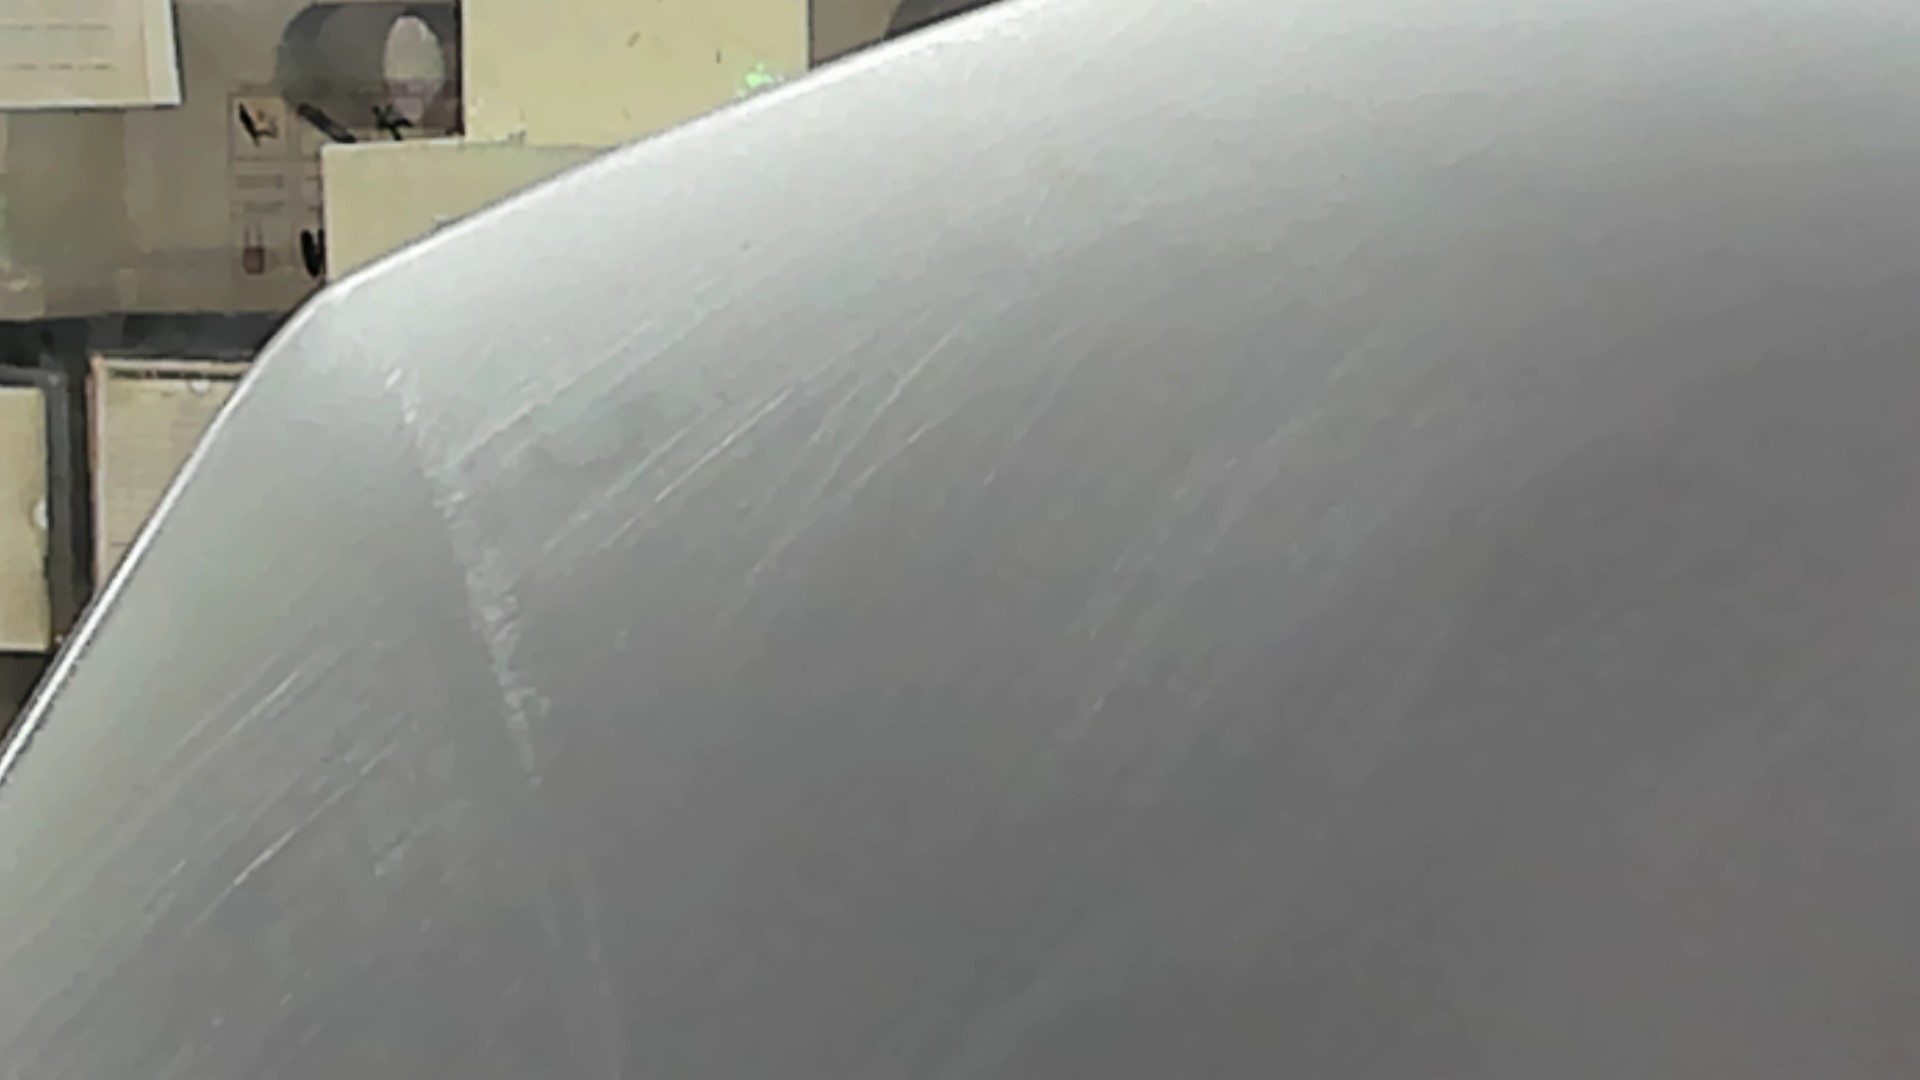capo: (571, 215, 1920, 1080)
